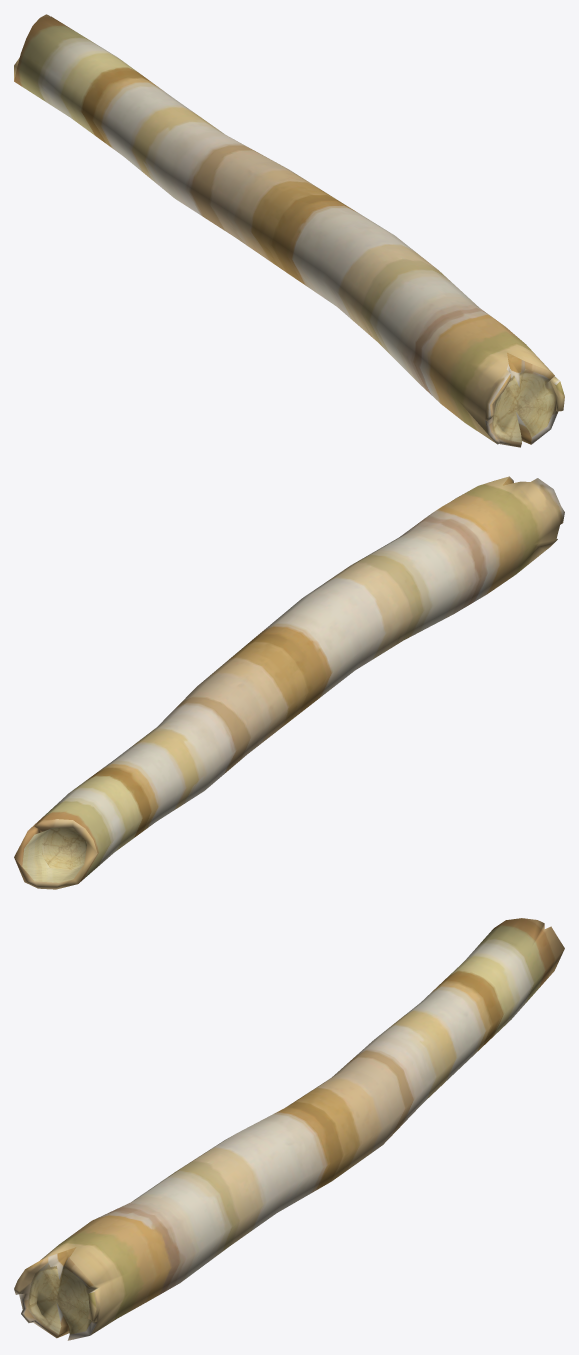
File: P_PalmFallen02.obj
3 views of the same model, one above another, from view 1: azimuth 30°, elevation 25°; view 2: azimuth 150°, elevation 25°; view 3: azimuth 330°, elevation 25° (orthographic). The views are drawn at different scales.
Bounding box in the file's own units: 0.9485 × 0.8281 × 8.11.
